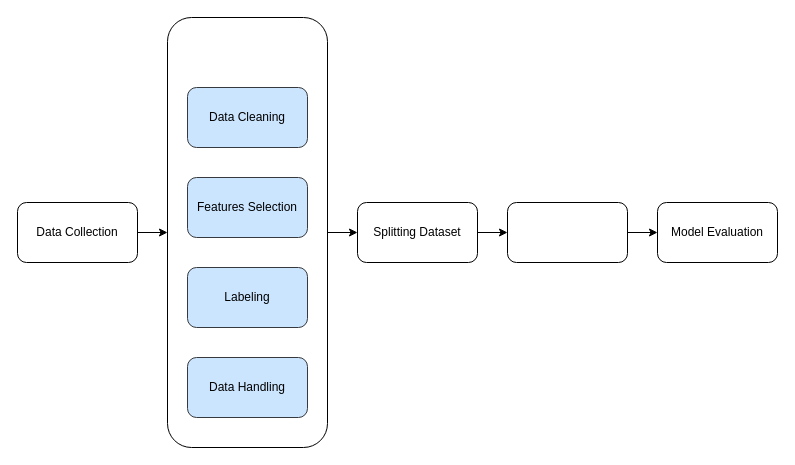
This 795x465 diagram has some shape labels left out. Each missing label, with the box of its shape:
Data Pre-processing: (166, 16, 328, 448)
Modeling: (506, 202, 628, 262)
